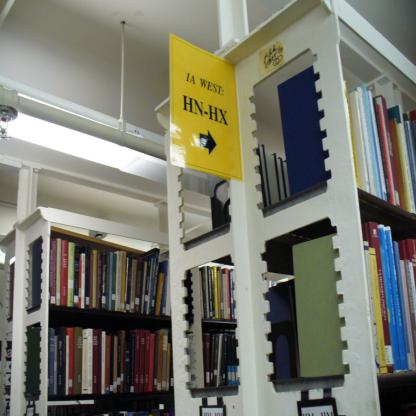book: (0, 226, 169, 416), (338, 72, 416, 217), (363, 216, 415, 374), (206, 140, 291, 212), (204, 325, 240, 386), (201, 264, 237, 322), (297, 400, 340, 416), (198, 406, 228, 416)
